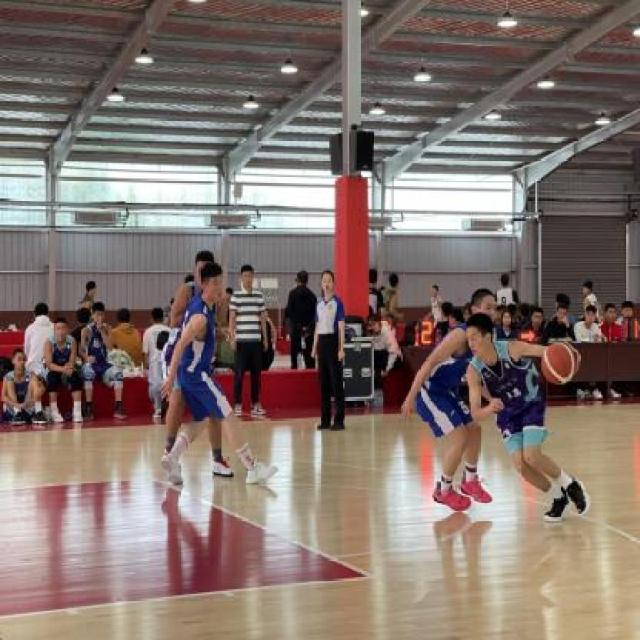basketball: (466, 313, 590, 521), (542, 342, 576, 386)
